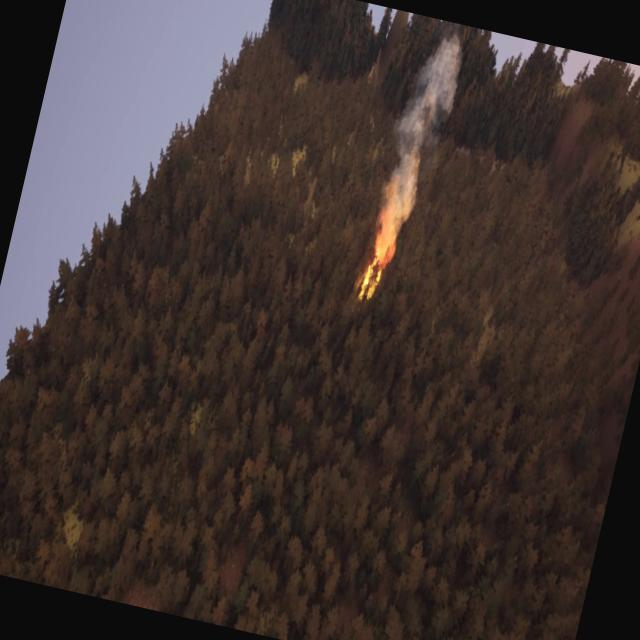fire: (353, 206, 403, 298)
smoke: (374, 22, 468, 226)
